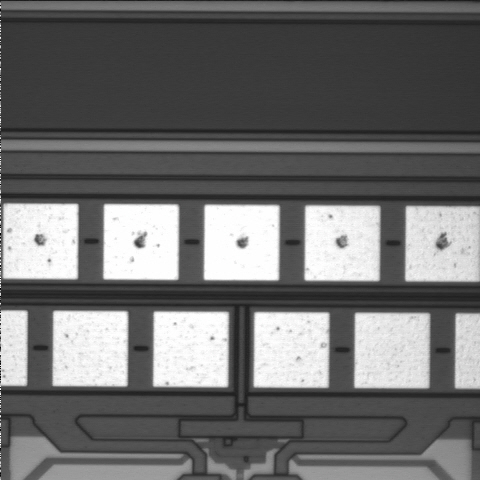pad: (103, 204, 179, 280), (204, 205, 280, 281), (304, 205, 380, 281), (153, 311, 229, 387), (254, 312, 329, 388), (354, 313, 430, 388), (3, 204, 78, 279), (53, 311, 128, 386)
